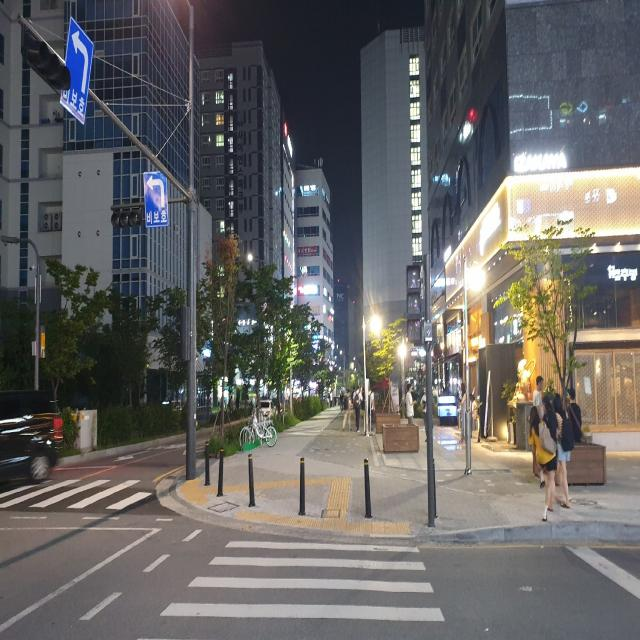횡단보도: (135, 537, 446, 640), (0, 477, 153, 510)
